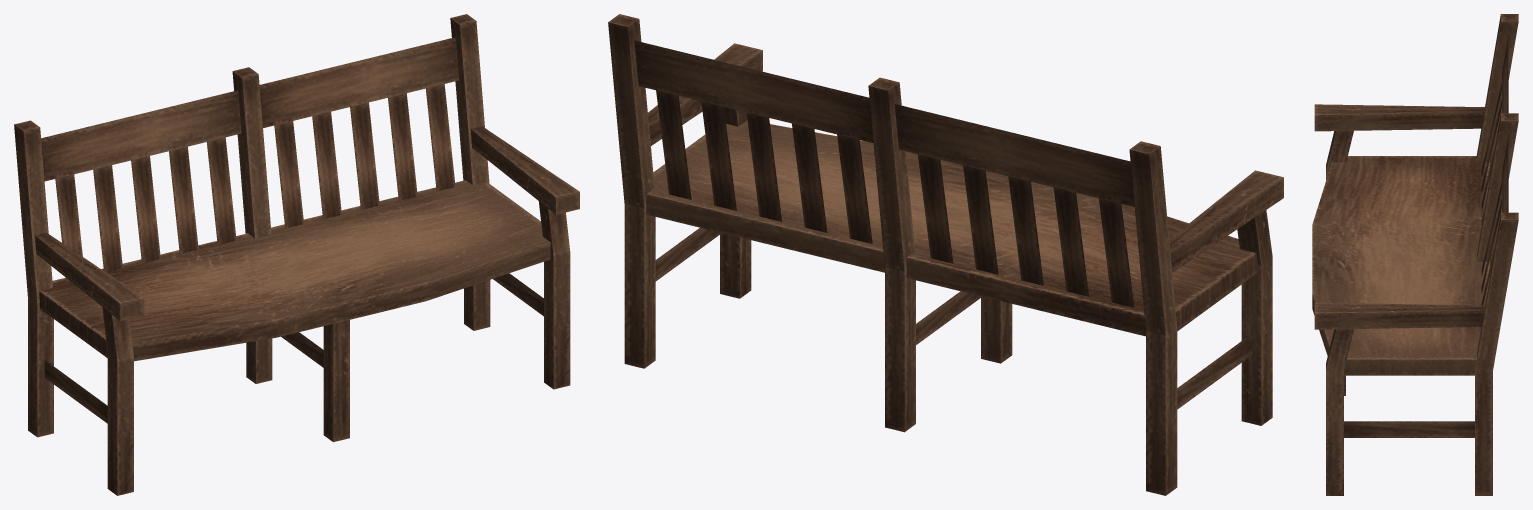
The model's file is Bench_1.fbx.
3 views of the same model, side by side, from view 1: azimuth 30°, elevation 25°; view 2: azimuth 150°, elevation 25°; view 3: azimuth 270°, elevation 25° (orthographic). The views are drawn at different scales.
Visible parts, largest first — view 1: Bench_1; view 2: Bench_1; view 3: Bench_1.
Part boxes in pixels (left/top/right/bottom): Bench_1: left=14, top=14, right=579, bottom=495; Bench_1: left=608, top=14, right=1283, bottom=495; Bench_1: left=1312, top=14, right=1518, bottom=495.
Bounding box in the file's own units: 166 × 102 × 69.12.
